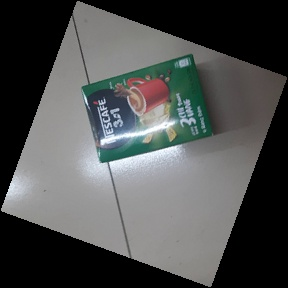Nes Rang: (80, 53, 215, 164)
